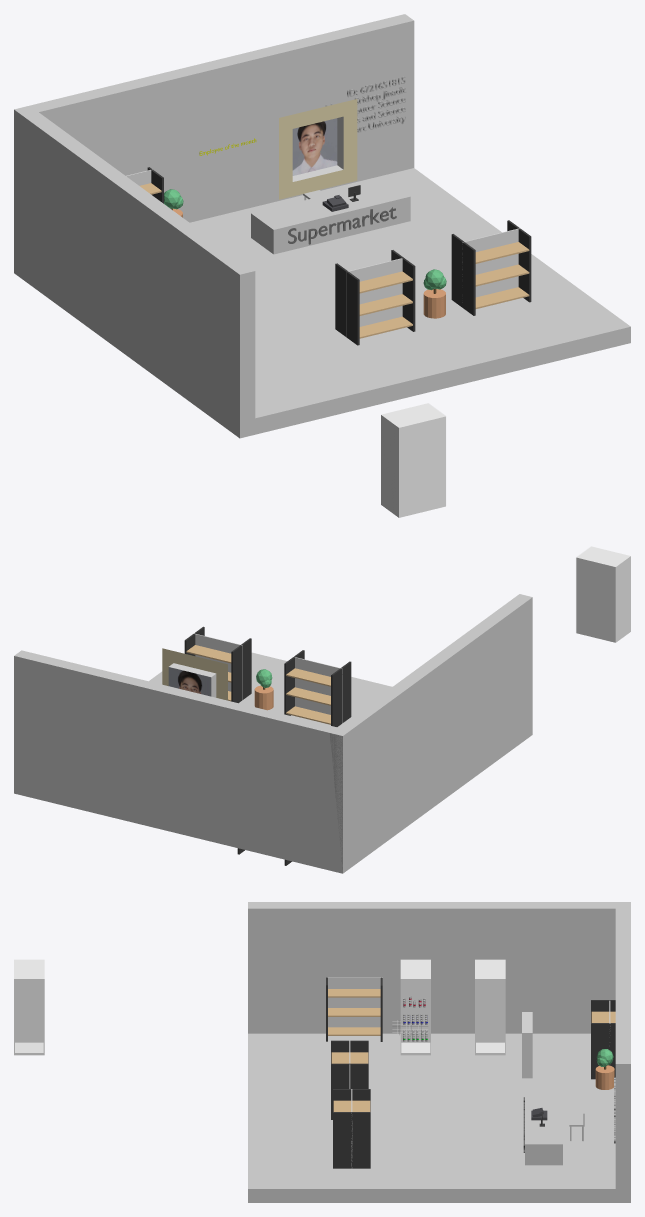
The model's file is SupermaketModel.glb.
3 views of the same model, one above another, from view 1: azimuth 30°, elevation 25°; view 2: azimuth 150°, elevation 25°; view 3: azimuth 270°, elevation 25° (orthographic). The views are drawn at different scales.
Parts seen in each view (by area): view 1: Plane.007, Cube.003, Plane.004, Cube, Gondola_Center_Panel, Gondola_Center_Panel.001, Frame_Post_-0.58, Frame_Post_-0.001, Text, Frame_Post_0.58, Frame_Post_0.001, Text.002; view 2: Plane.007, Cube.003, Plane.004, Gondola_Center_Panel, Frame_Post_-0.58, Frame_Post_-0.001, Gondola_Center_Panel.001, Frame_Post_0.58; view 3: Plane.007, Cube.003, Cube.004, Cube, Cube.001, Frame_Post_0.001, Gondola_Center_Panel.002, Frame_Post_0.58, Frame_Post_0.003, Plane.004, Frame_Post_-0.58, Frame_Post_-0.001 (+4 smaller).
Part boxes in pixels (left/top/right/bottom): Plane.007: left=14, top=14, right=630, bottom=438; Cube.003: left=381, top=403, right=445, bottom=517; Plane.004: left=279, top=99, right=357, bottom=199; Cube: left=251, top=180, right=410, bottom=254; Gondola_Center_Panel: left=346, top=258, right=402, bottom=336; Gondola_Center_Panel.001: left=462, top=228, right=520, bottom=302; Frame_Post_-0.58: left=335, top=263, right=359, bottom=345; Frame_Post_-0.001: left=451, top=234, right=475, bottom=315; Text: left=325, top=76, right=406, bottom=132; Frame_Post_0.58: left=391, top=250, right=415, bottom=331; Frame_Post_0.001: left=507, top=220, right=531, bottom=302; Text.002: left=288, top=207, right=396, bottom=244; Plane.007: left=14, top=594, right=532, bottom=873; Cube.003: left=576, top=546, right=630, bottom=642; Plane.004: left=162, top=648, right=227, bottom=700; Gondola_Center_Panel: left=295, top=657, right=342, bottom=723; Frame_Post_-0.58: left=331, top=661, right=351, bottom=726; Frame_Post_-0.001: left=231, top=638, right=251, bottom=703; Gondola_Center_Panel.001: left=194, top=633, right=242, bottom=699; Frame_Post_0.58: left=284, top=650, right=304, bottom=715; Plane.007: left=248, top=902, right=630, bottom=1202; Cube.003: left=14, top=959, right=44, bottom=1055; Cube.004: left=475, top=959, right=505, bottom=1055; Cube: left=525, top=1088, right=562, bottom=1165; Cube.001: left=400, top=959, right=430, bottom=1055; Frame_Post_0.001: left=333, top=1112, right=370, bottom=1168; Gondola_Center_Panel.002: left=327, top=977, right=382, bottom=1027; Frame_Post_0.58: left=331, top=1063, right=368, bottom=1119; Frame_Post_0.003: left=591, top=1023, right=615, bottom=1079; Plane.004: left=522, top=1012, right=532, bottom=1078; Frame_Post_-0.58: left=331, top=1040, right=368, bottom=1063; Frame_Post_-0.001: left=333, top=1089, right=370, bottom=1111.
Size of the model in its own units: 10 by 4.21 by 16.11.
Materials: 27 (1 with a texture image).
